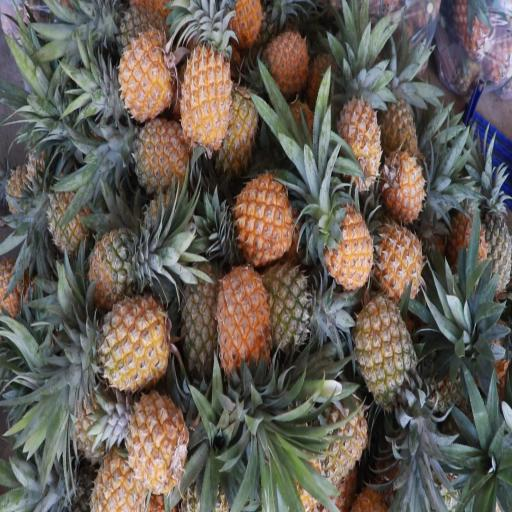------------------------------: (349, 287, 423, 412), (180, 252, 240, 380), (83, 221, 146, 312)
Pineapple - v8 v1: (90, 287, 176, 388), (216, 225, 273, 366), (121, 383, 190, 496), (177, 26, 234, 152), (121, 106, 194, 200), (226, 147, 292, 243), (334, 85, 384, 208), (322, 180, 377, 286), (311, 382, 371, 478), (120, 30, 174, 126), (258, 30, 312, 112), (372, 223, 423, 306), (379, 145, 428, 228)
